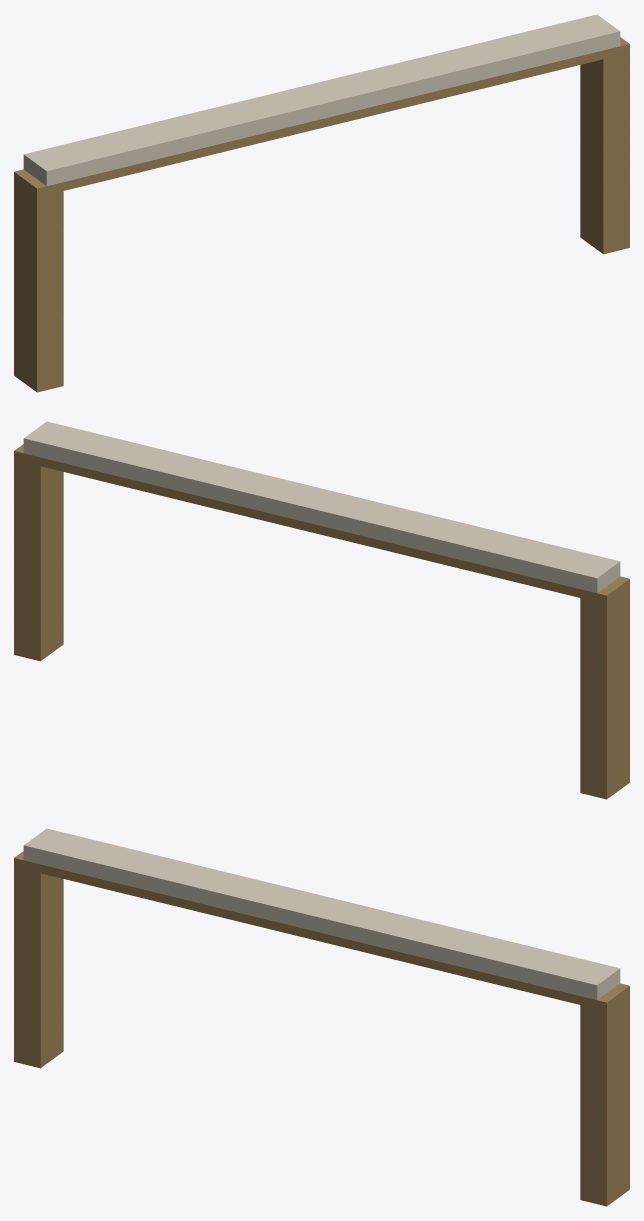
The model's file is G7_Completion_R009_G7C4_Fore_NeckLanding.glb.
The picture shows the model from 3 angles, top to bottom: view 1: azimuth 30°, elevation 25°; view 2: azimuth 150°, elevation 25°; view 3: azimuth 330°, elevation 25°; orthographic projection.
Parts seen in each view (by area): view 1: G7C4_Fore_NeckLanding_G7C4_metal_solid_frame, G7C4_Fore_NeckLanding_G7C4_shell_solid_roof; view 2: G7C4_Fore_NeckLanding_G7C4_metal_solid_frame, G7C4_Fore_NeckLanding_G7C4_shell_solid_roof; view 3: G7C4_Fore_NeckLanding_G7C4_metal_solid_frame, G7C4_Fore_NeckLanding_G7C4_shell_solid_roof.
Part boxes in pixels (left/top/right/bottom): G7C4_Fore_NeckLanding_G7C4_metal_solid_frame: left=14, top=37, right=629, bottom=392; G7C4_Fore_NeckLanding_G7C4_shell_solid_roof: left=23, top=14, right=620, bottom=185; G7C4_Fore_NeckLanding_G7C4_metal_solid_frame: left=14, top=444, right=629, bottom=799; G7C4_Fore_NeckLanding_G7C4_shell_solid_roof: left=23, top=421, right=620, bottom=592; G7C4_Fore_NeckLanding_G7C4_metal_solid_frame: left=14, top=851, right=629, bottom=1206; G7C4_Fore_NeckLanding_G7C4_shell_solid_roof: left=23, top=828, right=620, bottom=999.
Bounding box in the file's own units: 14.06 × 4.96 × 0.95.
Materials: 2 (2 with a texture image).
